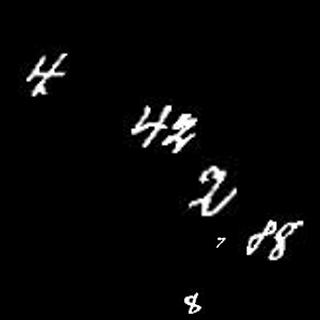eight: (266, 222, 302, 266), (241, 218, 276, 258), (183, 287, 207, 316)
four: (28, 52, 74, 99), (130, 101, 170, 151)
seven: (215, 235, 232, 252)
two: (190, 171, 237, 218), (164, 110, 205, 147)
